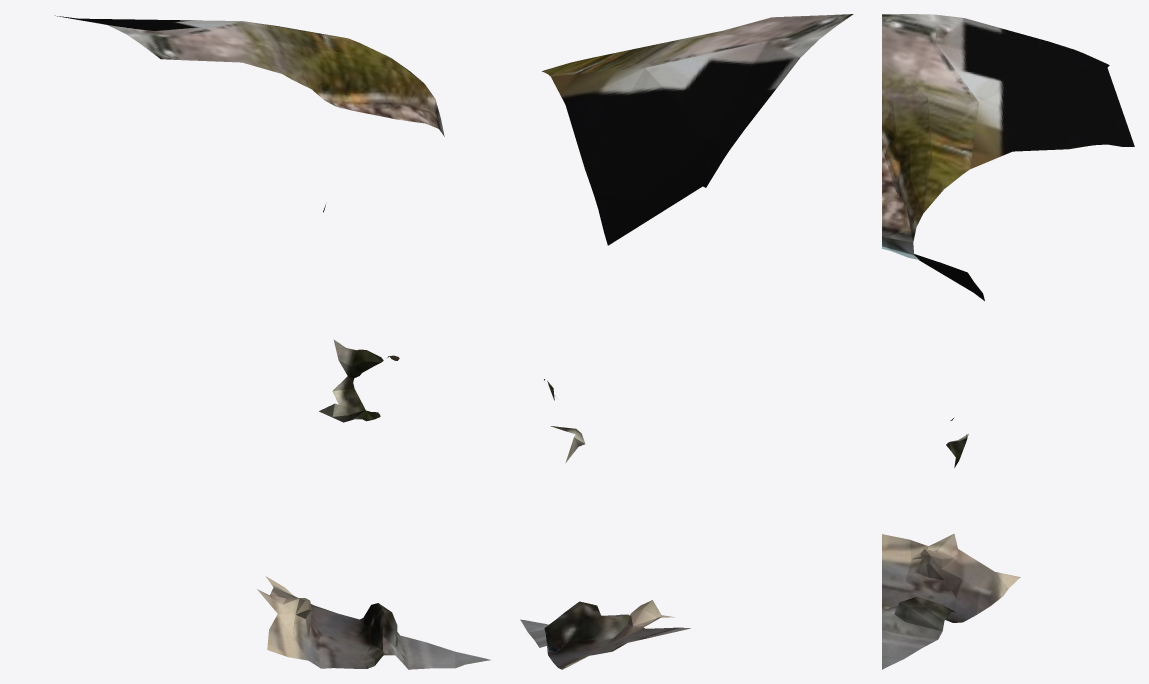
3 views of the same model, side by side, from view 1: azimuth 30°, elevation 25°; view 2: azimuth 150°, elevation 25°; view 3: azimuth 270°, elevation 25° (orthographic). The views are drawn at different scales.
Size of the model in its own units: 6.49 by 12.78 by 5.52.
1 material, 1 textured.
